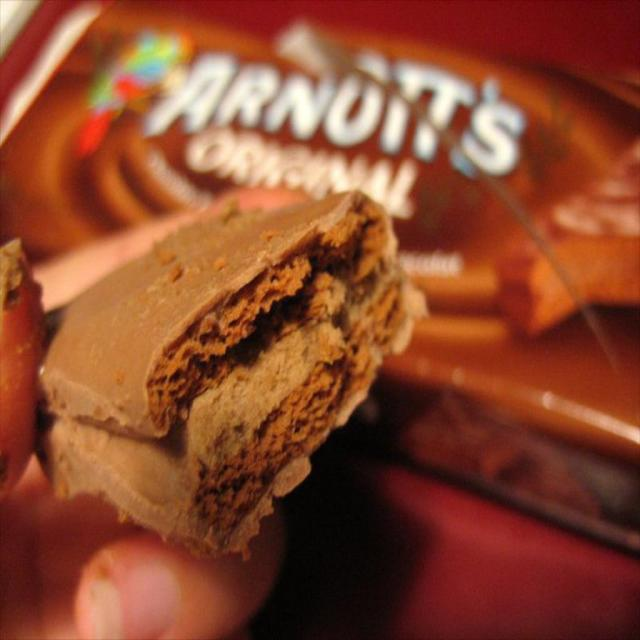Chocolate bar packaged: (31, 183, 430, 558)
